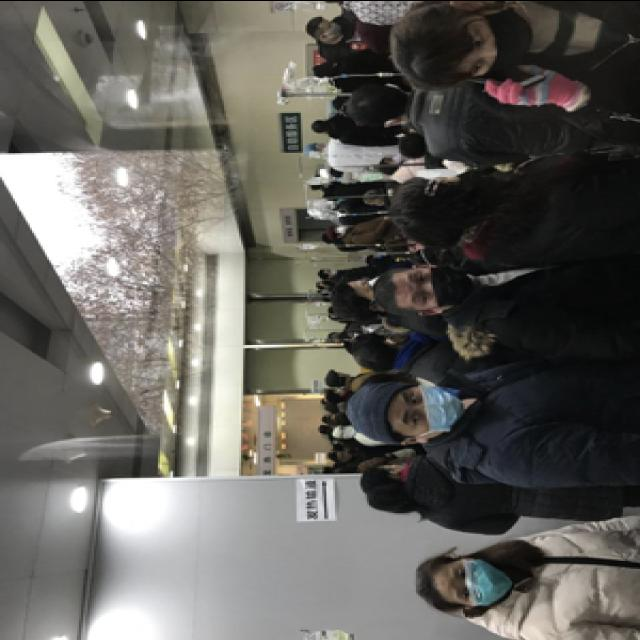with_mask: (461, 9, 533, 82), (397, 384, 465, 435), (448, 557, 514, 608), (402, 267, 474, 309), (320, 20, 344, 38), (330, 384, 346, 394), (386, 155, 403, 163), (331, 226, 350, 233), (324, 267, 337, 275)
without_mask: (335, 452, 352, 462)
